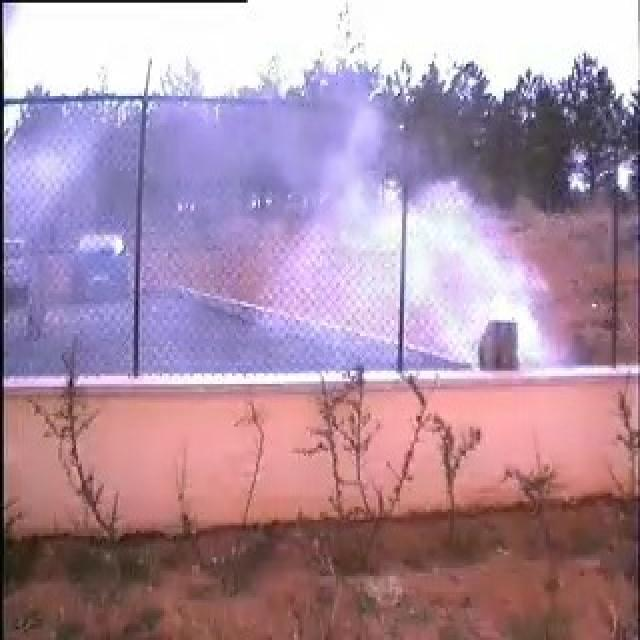Smoke: (165, 108, 536, 364)
